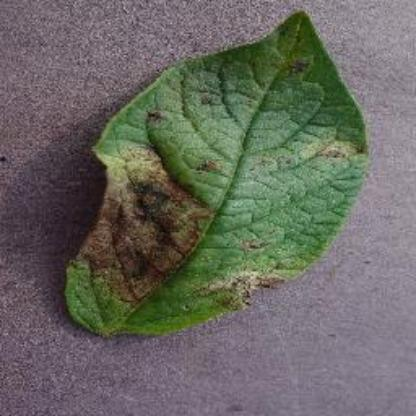Late-Blight: (47, 9, 370, 347)
